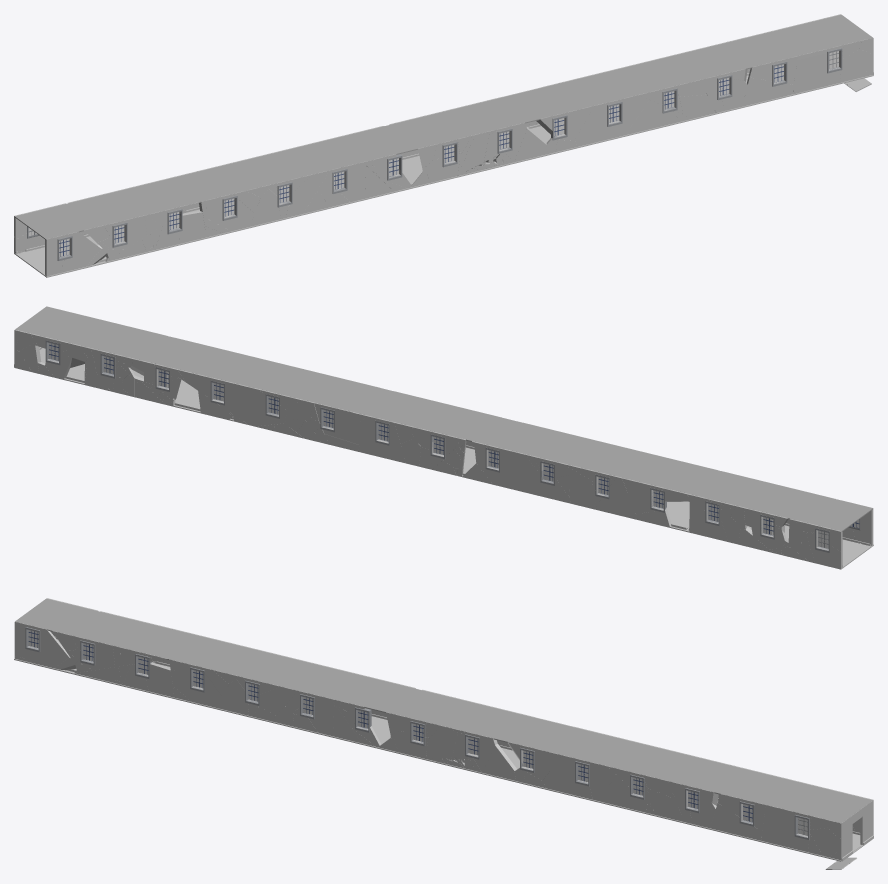
The model's file is BreakCorridor.fbx.
The picture shows the model from 3 angles, top to bottom: view 1: azimuth 30°, elevation 25°; view 2: azimuth 150°, elevation 25°; view 3: azimuth 330°, elevation 25°; orthographic projection.
Visible parts, largest first — view 1: Cube.007_cell_cell.004_cell.005, Plane.001, Plane.002, Cube.051, Cube.013, Cube.010_cell.001_cell.004_cell.005, Group_016.001; view 2: Cube.010_cell.001_cell.004_cell.005, Plane.001, Plane.002, Cube.006, Cube.009, Group_016.002, Cube.007_cell_cell.004_cell.005; view 3: Plane.001, Cube.007_cell_cell.004_cell.005, Cube.051, Plane.002, Cube.013, Cube.010_cell.001_cell.004_cell.005, Group_016.001, Cube.003.
Part boxes in pixels (x1,y1,x2,y2): Cube.007_cell_cell.004_cell.005: (45,37,872,276); Plane.001: (14,14,872,239); Plane.002: (14,75,873,277); Cube.051: (57,48,842,260); Cube.013: (59,51,838,256); Cube.010_cell.001_cell.004_cell.005: (14,14,841,253); Group_016.001: (59,52,838,256); Cube.010_cell.001_cell.004_cell.005: (14,329,842,568); Plane.001: (15,306,873,531); Plane.002: (14,348,873,569); Cube.006: (45,340,829,552); Cube.009: (49,343,828,548); Group_016.002: (49,343,828,548); Cube.007_cell_cell.004_cell.005: (46,306,873,545); Plane.001: (15,598,872,823); Cube.007_cell_cell.004_cell.005: (14,621,841,859); Cube.051: (25,627,809,839); Plane.002: (14,639,861,861); Cube.013: (28,630,807,835); Cube.010_cell.001_cell.004_cell.005: (46,598,873,835); Group_016.001: (28,631,807,835); Cube.003: (840,800,872,860).
Bounding box in the file's own units: 60.24 × 3.6 × 4.18.
